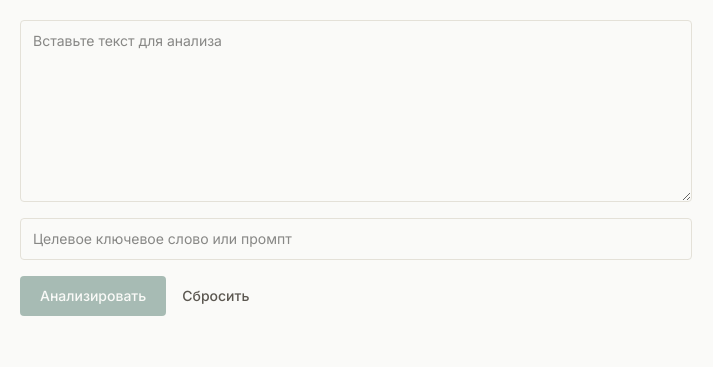
Scenario: TextModePanel › clicking Сбросить clears error state
This screenshot has width=713, height=367.
Type "text" into the text box with placeholder "Вставьте текст для анализа" at (356,111), box [20,20,692,202]
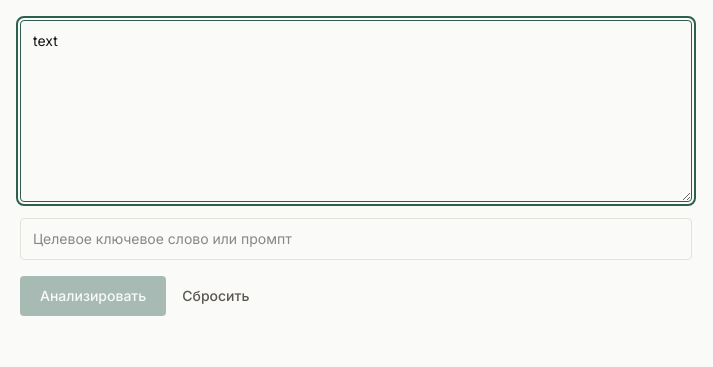
Type "query" into the field with placeholder "Целевое ключевое слово или промпт" at (356,239), box [20,218,692,260]
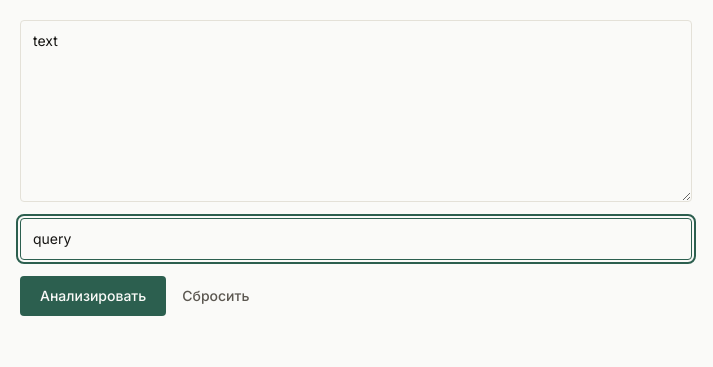
Click the button "Анализировать" at (93,296), box [20,276,166,316]
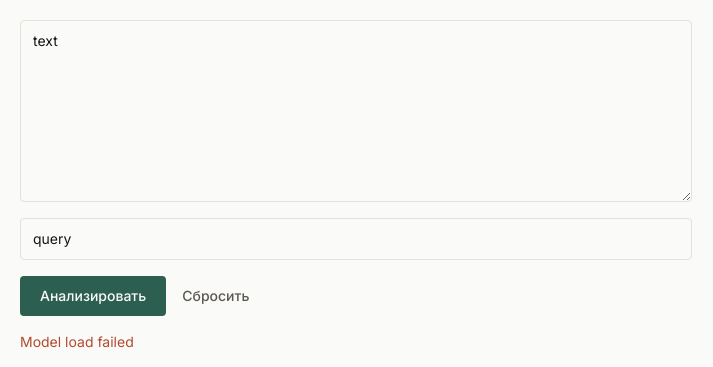
Now the message "Model load failed" is shown, box [20,333,134,350]
Click the button "Сбросить" at (216,296), box [182,286,249,306]
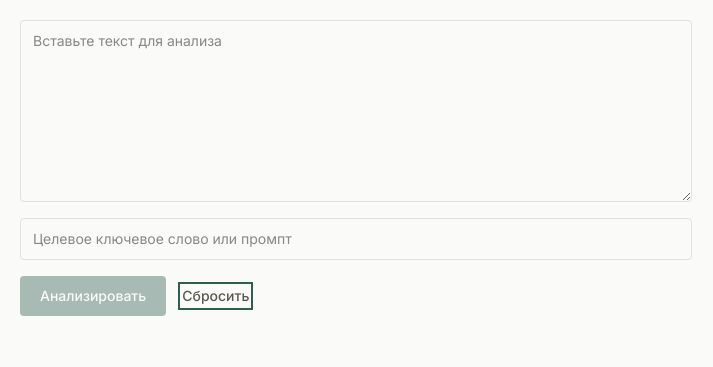
Now the message "Model load failed" is gone
